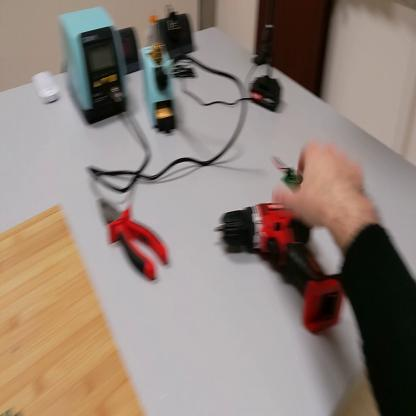electric screwdriver: (214, 203, 337, 334)
electric screwdriver battery: (251, 76, 282, 113)
hand: (273, 142, 367, 232)
high voltage board: (96, 192, 169, 281), (273, 153, 304, 193)
socket: (159, 13, 197, 60), (119, 25, 140, 75)
welder base: (143, 14, 180, 135)
welder station: (59, 9, 129, 129)
working area: (2, 204, 146, 415)
